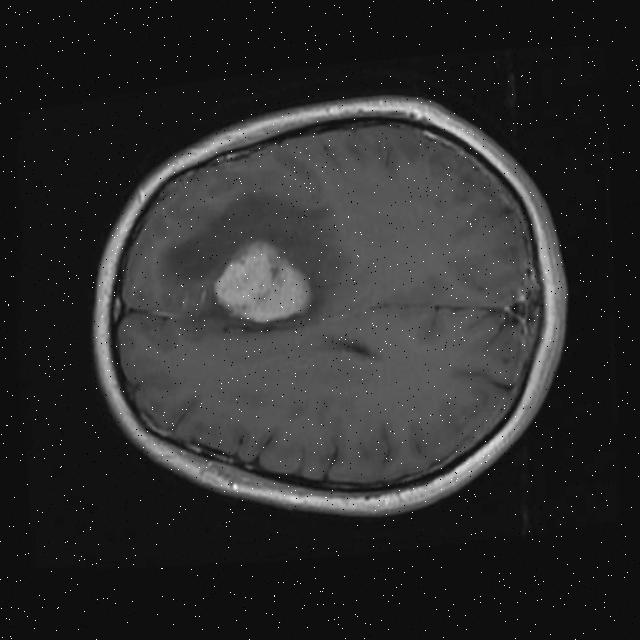Meningioma: (208, 232, 317, 327)
